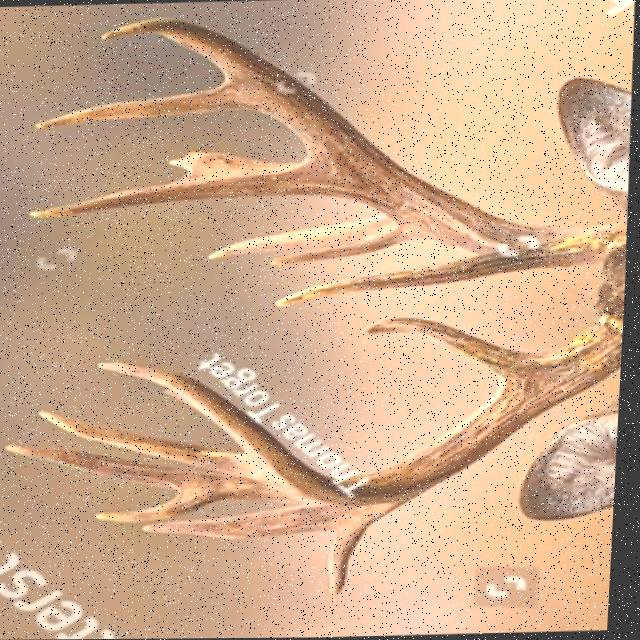E1: (170, 150, 302, 178)
L-F: (97, 15, 629, 271)
L-G1: (274, 250, 527, 308)
L-G2: (270, 225, 425, 264)
L-G4: (27, 157, 341, 218)
L-G5: (33, 82, 249, 131)
R-F: (98, 312, 627, 507)
R-G1: (362, 315, 550, 381)
R-G4: (42, 409, 267, 483)
